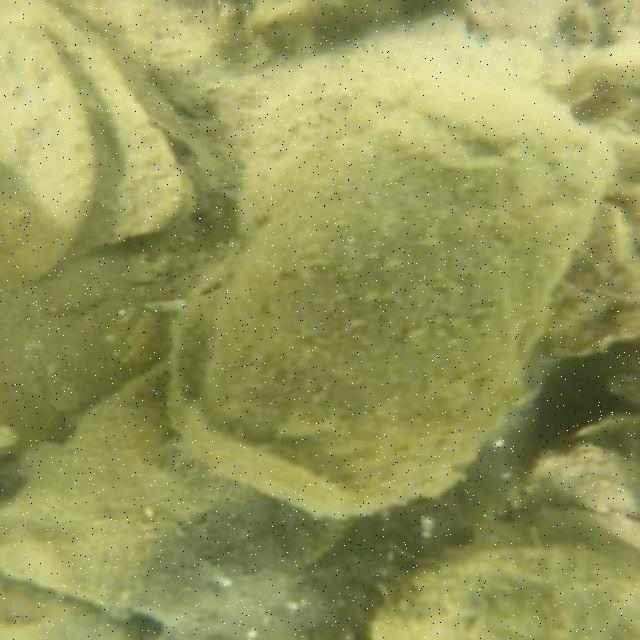Oyster-Closed: (158, 64, 621, 515), (0, 363, 350, 631), (0, 2, 191, 256), (0, 1, 97, 281)
